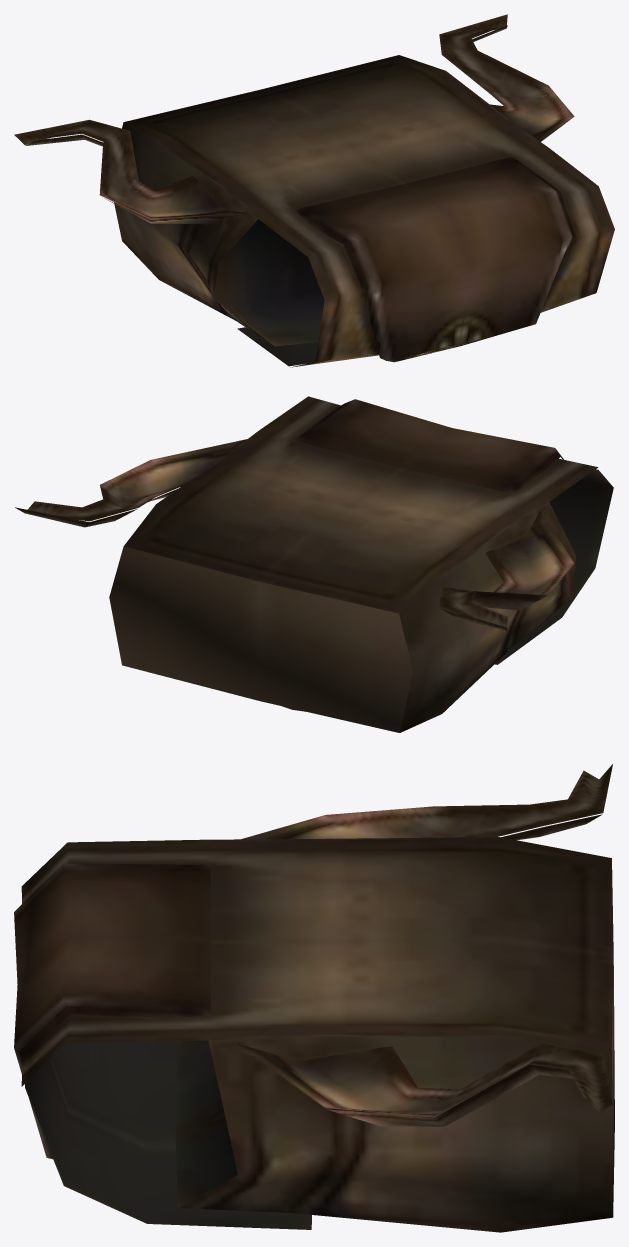
The model's file is Mbag.glb.
The picture shows the model from 3 angles, top to bottom: view 1: azimuth 30°, elevation 25°; view 2: azimuth 150°, elevation 25°; view 3: azimuth 270°, elevation 25°; orthographic projection. The views are drawn at different scales.
Parts seen in each view (by area): view 1: model_Mbag; view 2: model_Mbag; view 3: model_Mbag.
Part boxes in pixels (box(x1,y1,x2,y2)): model_Mbag: box(14, 14, 614, 367); model_Mbag: box(15, 396, 613, 732); model_Mbag: box(14, 764, 614, 1232).
Size of the model in its own units: 0.4799 by 0.1634 by 0.3573.
Materials: 1 (1 with a texture image).
